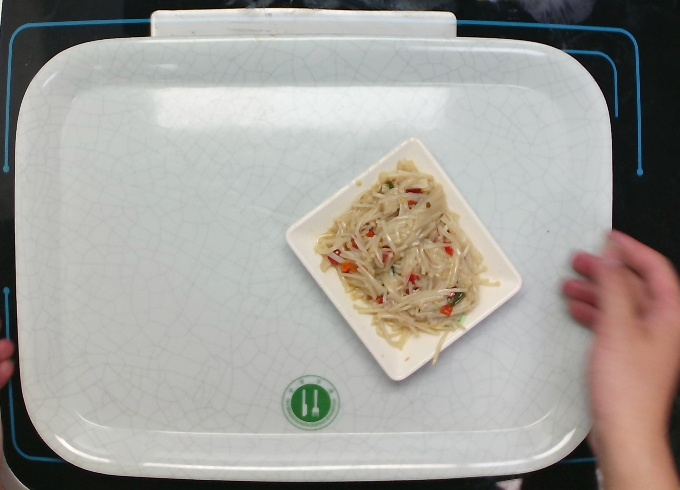WCQzf-Bai_Se_Si_Fang_Die: (281, 131, 523, 384)
